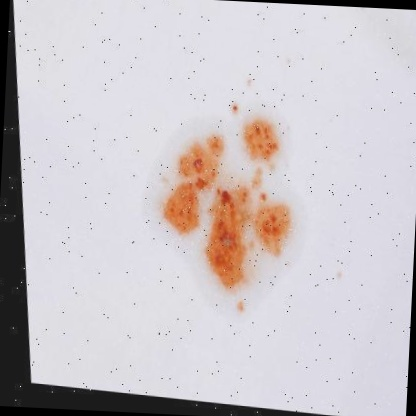kimchi: (145, 95, 302, 317)
